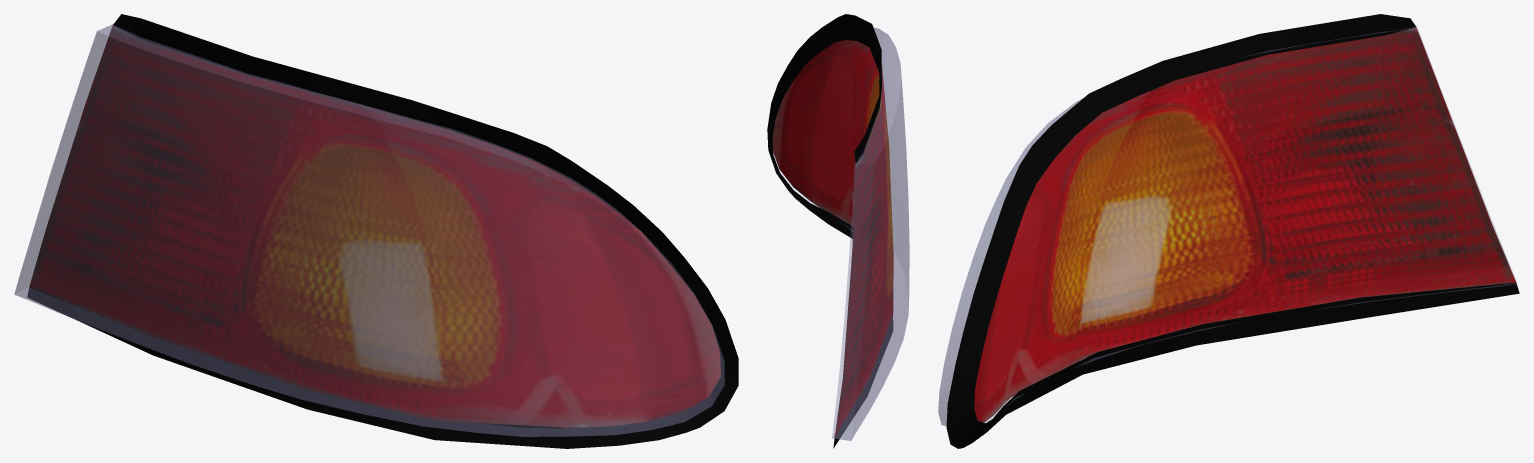
3 views of the same model, side by side, from view 1: azimuth 30°, elevation 25°; view 2: azimuth 150°, elevation 25°; view 3: azimuth 270°, elevation 25° (orthographic). The views are drawn at different scales.
Visible parts, largest first — view 1: Y210_541C_R_1_DTaSI_Y210_541C_R, Y210_541C_R_Y210_541C_R_2_N, Y210_541C_R_Y210_541C_R_3_D; view 2: Y210_541C_R_Y210_541C_R_2_N, Y210_541C_R_1_DTaSI_Y210_541C_R, Y210_541C_R_Y210_541C_R_3_D; view 3: Y210_541C_R_Y210_541C_R_2_N, Y210_541C_R_Y210_541C_R_3_D, Y210_541C_R_1_DTaSI_Y210_541C_R.
Part boxes in pixels (<box>): Y210_541C_R_1_DTaSI_Y210_541C_R: <box>14,24,724,436</box>; Y210_541C_R_Y210_541C_R_2_N: <box>29,25,720,427</box>; Y210_541C_R_Y210_541C_R_3_D: <box>27,14,738,448</box>; Y210_541C_R_Y210_541C_R_2_N: <box>772,40,893,436</box>; Y210_541C_R_1_DTaSI_Y210_541C_R: <box>773,27,909,440</box>; Y210_541C_R_Y210_541C_R_3_D: <box>767,14,892,448</box>; Y210_541C_R_Y210_541C_R_2_N: <box>974,27,1515,422</box>; Y210_541C_R_Y210_541C_R_3_D: <box>946,14,1519,448</box>; Y210_541C_R_1_DTaSI_Y210_541C_R: <box>938,18,1517,426</box>.
Size of the model in its own units: 26.55 by 20.4 by 35.45.
